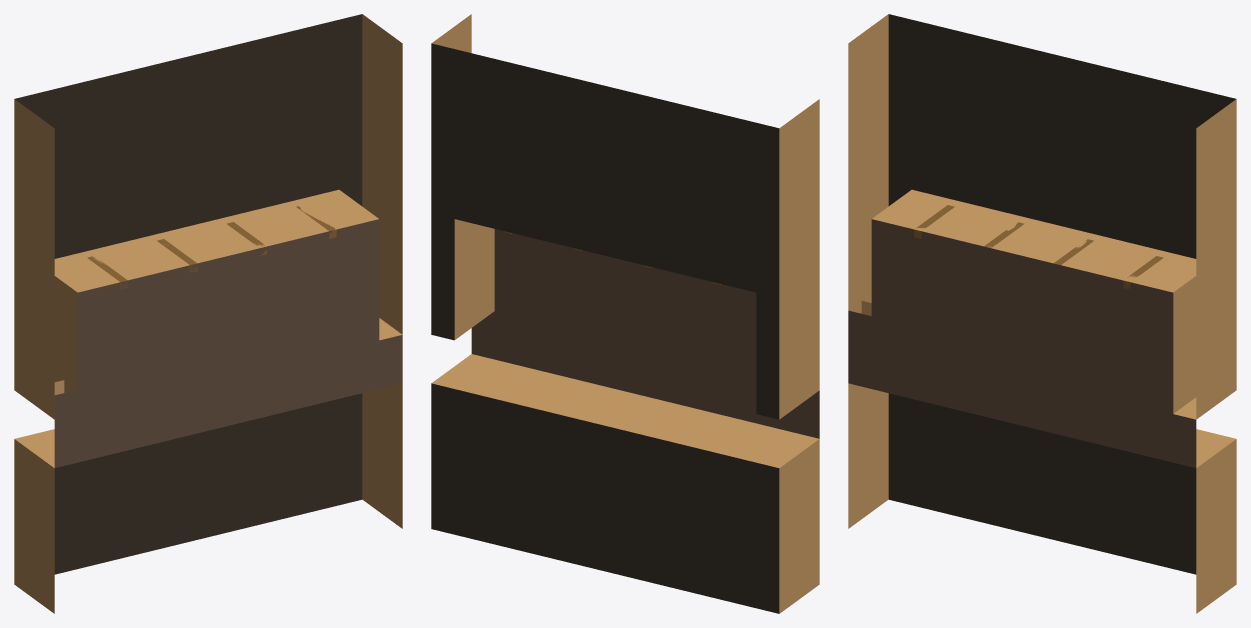
File: Raum2.fbx
3 renders of one model, left to right at view 1: azimuth 30°, elevation 25°; view 2: azimuth 150°, elevation 25°; view 3: azimuth 330°, elevation 25°, orthographic.
Parts seen in each view (by area): view 1: Plane.012; view 2: Plane.012; view 3: Plane.012.
Boxes of the visible parts, box(x1,y1,x2,y2) form: Plane.012: box(14, 14, 402, 613); Plane.012: box(431, 14, 819, 613); Plane.012: box(848, 14, 1236, 613).
Size of the model in its own units: 3000 by 4000 by 600.
